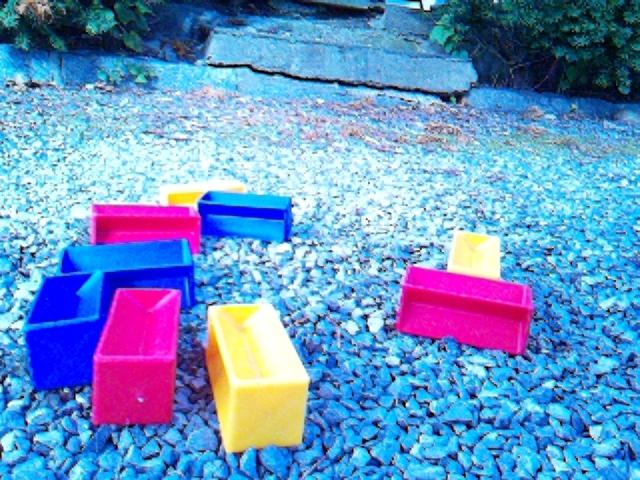blue: (59, 238, 196, 314), (23, 270, 106, 391), (196, 189, 294, 244)
red: (395, 263, 535, 356), (91, 287, 182, 427), (89, 202, 202, 255)
yellow: (205, 301, 311, 453), (447, 230, 502, 280), (159, 179, 247, 209)
